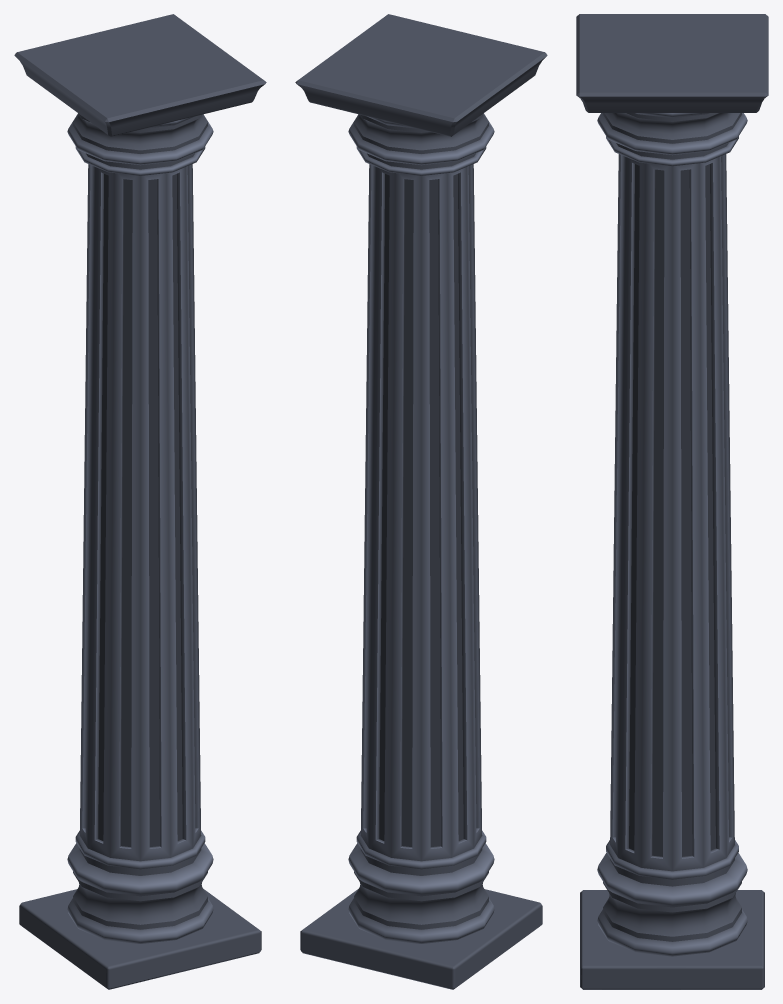
The model's file is Column.fbx.
3 renders of one model, left to right at view 1: azimuth 30°, elevation 25°; view 2: azimuth 150°, elevation 25°; view 3: azimuth 270°, elevation 25°, orthographic. The views are drawn at different scales.
Parts seen in each view (by area): view 1: Column; view 2: Column; view 3: Column.
Boxes of the visible parts, bbox=[...] form: Column: bbox=[14, 14, 266, 989]; Column: bbox=[295, 14, 547, 989]; Column: bbox=[576, 14, 768, 989].
Size of the model in its own units: 48.76 by 251 by 48.76.
